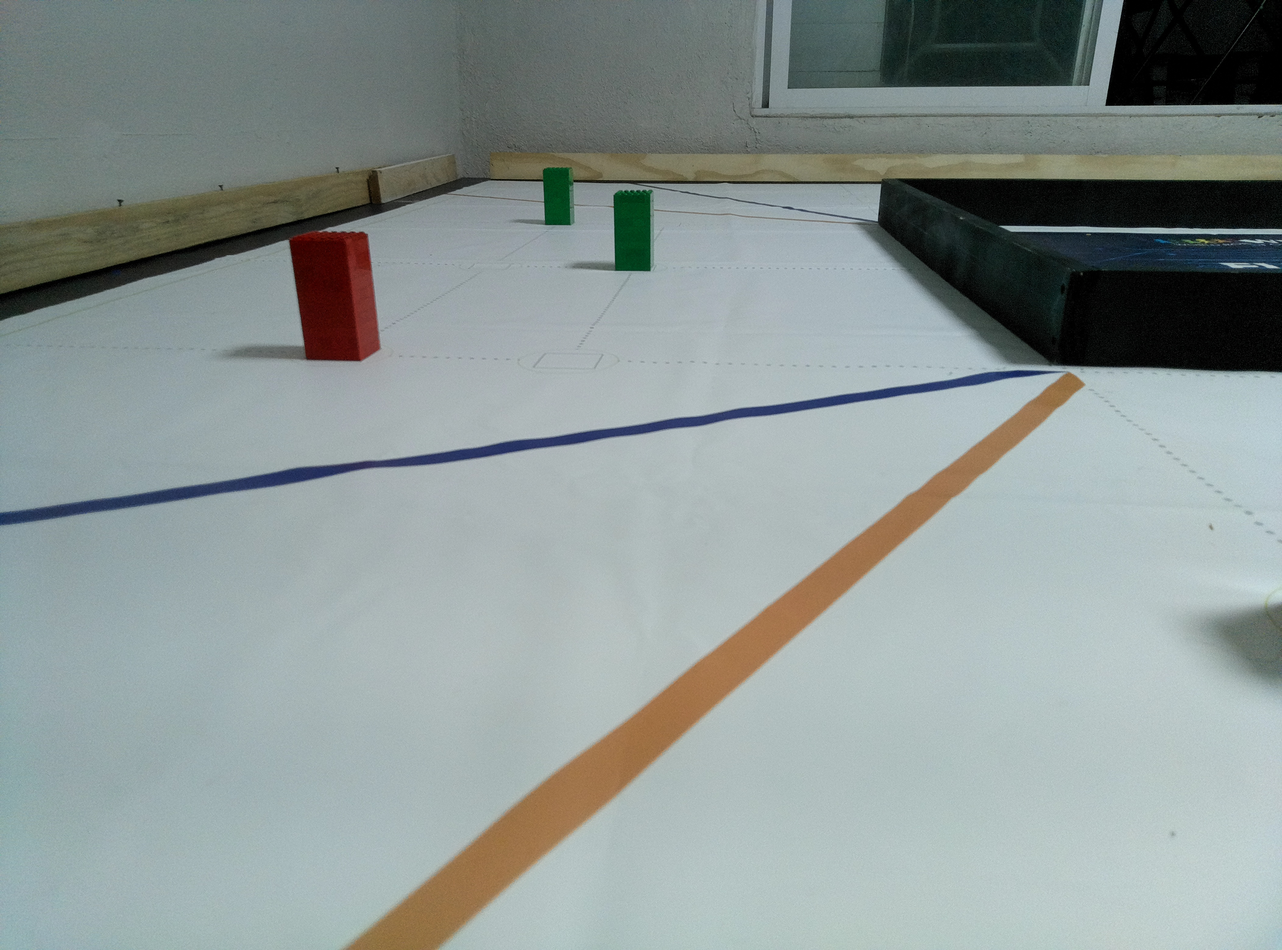greenbox: (613, 190, 654, 272), (543, 167, 575, 226)
redbox: (288, 231, 382, 362)
